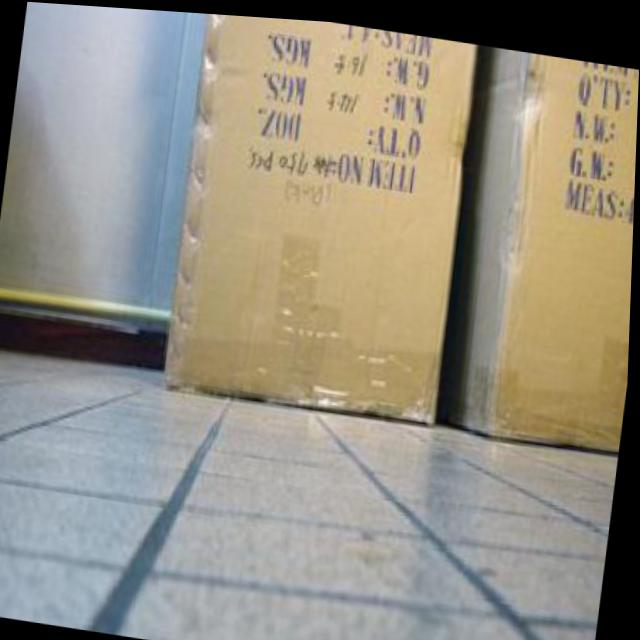box: (157, 9, 492, 435), (440, 37, 640, 455)
